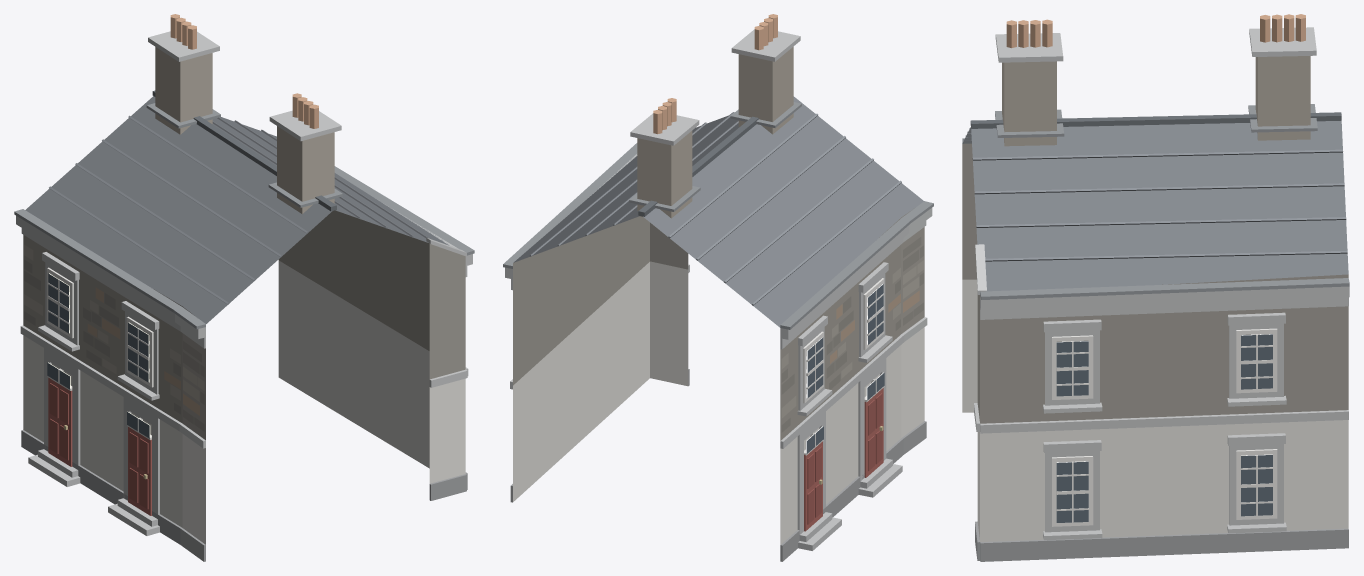
3 renders of one model, left to right at view 1: azimuth 30°, elevation 25°; view 2: azimuth 150°, elevation 25°; view 3: azimuth 270°, elevation 25°, orthographic. The views are drawn at different scales.
Visible parts, largest first — view 1: slate, harl, rubble, stone_band, chim_stone, lead, slate_lt, plinth, door_red_dk_p, rubble_dk, frame, door_red_dk (+6 smaller); view 2: slate, harl, rubble, stone_band, chim_stone, lead, slate_lt, door_red_dk_p, plinth, rubble_dk, frame, door_red_dk (+6 smaller); view 3: slate, harl, rubble, stone_band, chim_stone, plinth, frame, slate_lt, lead, pot, slate_dk, window_glass_001 (+3 smaller).
Boxes of the visible parts, box(x1,y1,x2,y2) form: slate: box(25, 96, 448, 323); harl: box(23, 260, 465, 544); rubble: box(23, 210, 465, 440); stone_band: box(16, 31, 472, 535); chim_stone: box(155, 47, 334, 214); lead: box(14, 103, 474, 329); slate_lt: box(49, 115, 429, 304); plinth: box(21, 430, 467, 561); door_red_dk_p: box(49, 383, 148, 509); rubble_dk: box(24, 259, 204, 431); frame: box(47, 267, 153, 439); door_red_dk: box(48, 377, 151, 515); slate: box(513, 96, 923, 327); harl: box(513, 261, 924, 544); rubble: box(513, 208, 924, 440); stone_band: box(505, 29, 932, 550); chim_stone: box(637, 47, 793, 218); lead: box(503, 102, 933, 329); slate_lt: box(529, 112, 901, 305); door_red_dk_p: box(807, 393, 882, 524); plinth: box(510, 369, 926, 561); rubble_dk: box(781, 237, 923, 432); frame: box(803, 278, 884, 455); door_red_dk: box(804, 388, 883, 531); slate: box(962, 120, 1348, 291); harl: box(962, 279, 1348, 541); rubble: box(962, 143, 1348, 423); stone_band: box(974, 27, 1349, 540); chim_stone: box(1002, 56, 1310, 146); plinth: box(975, 521, 1348, 561); frame: box(1052, 328, 1277, 526); slate_lt: box(963, 128, 1347, 261); lead: box(962, 104, 1349, 299); pot: box(1006, 14, 1305, 48); slate_dk: box(970, 112, 1341, 128); window_glass_001: box(1056, 461, 1088, 522).
Size of the model in its own units: 8.85 by 11.12 by 8.45.
